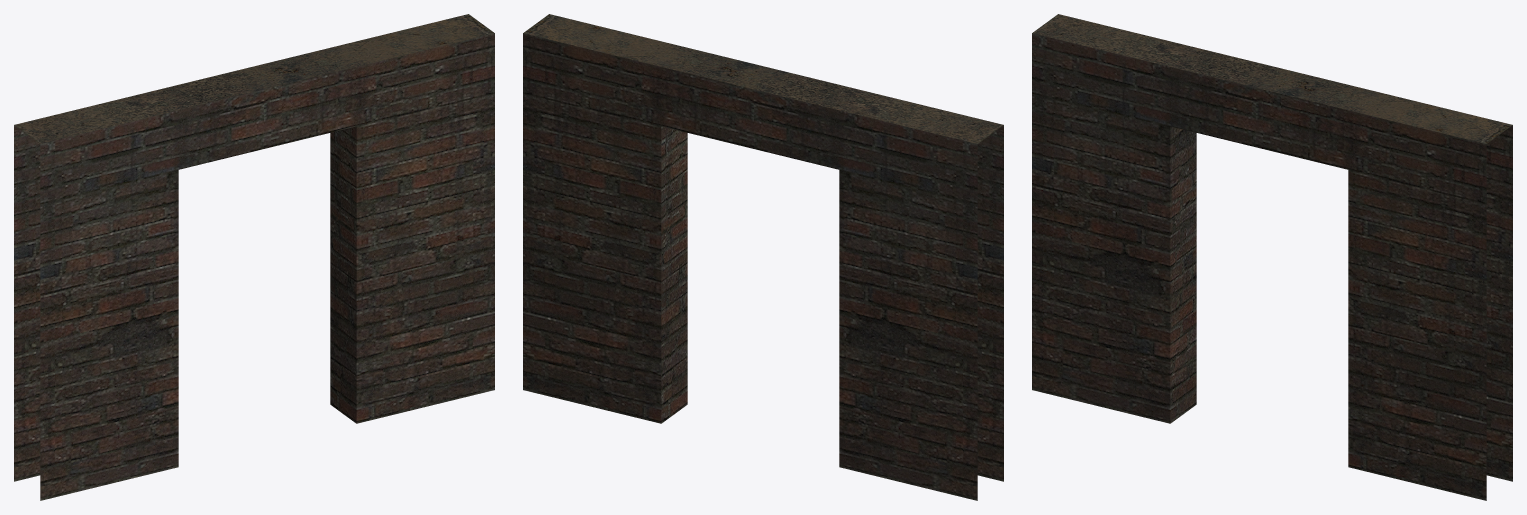
The model's file is doorway_hs_1_wide.obj.
3 views of the same model, side by side, from view 1: azimuth 30°, elevation 25°; view 2: azimuth 150°, elevation 25°; view 3: azimuth 330°, elevation 25° (orthographic).
Visible parts, largest first — view 1: doorway_hs_1_wide; view 2: doorway_hs_1_wide; view 3: doorway_hs_1_wide.
Part boxes in pixels (bbox=[...]): doorway_hs_1_wide: bbox=[14, 14, 494, 500]; doorway_hs_1_wide: bbox=[523, 14, 1003, 500]; doorway_hs_1_wide: bbox=[1032, 14, 1512, 500].
Size of the model in its own units: 4 by 3 by 0.4.
